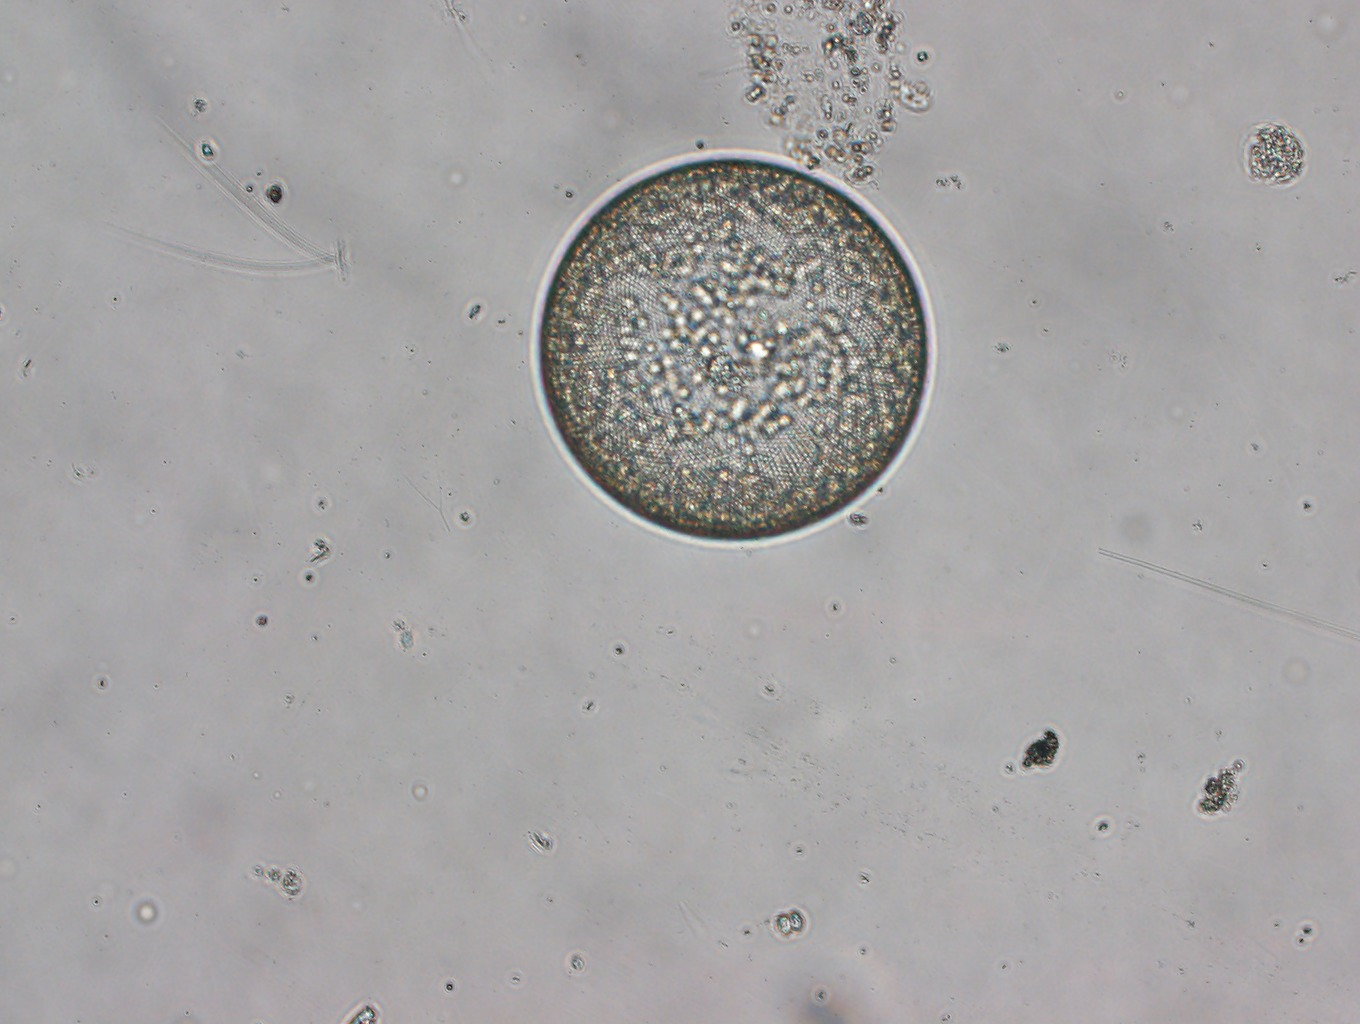coscinodiscus: (518, 144, 945, 555)
